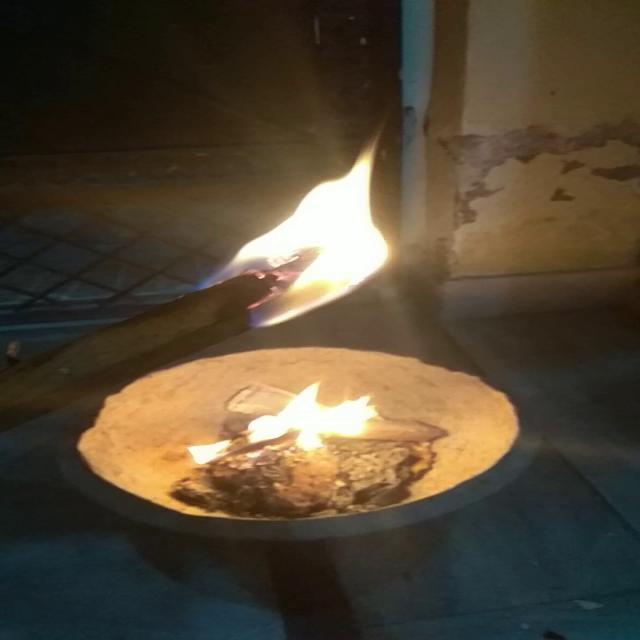fire: (208, 139, 421, 319), (190, 359, 390, 477)
